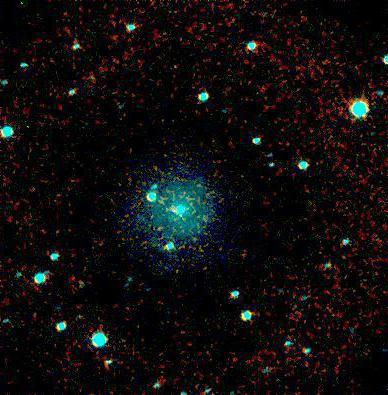star: (162, 50, 192, 80)
